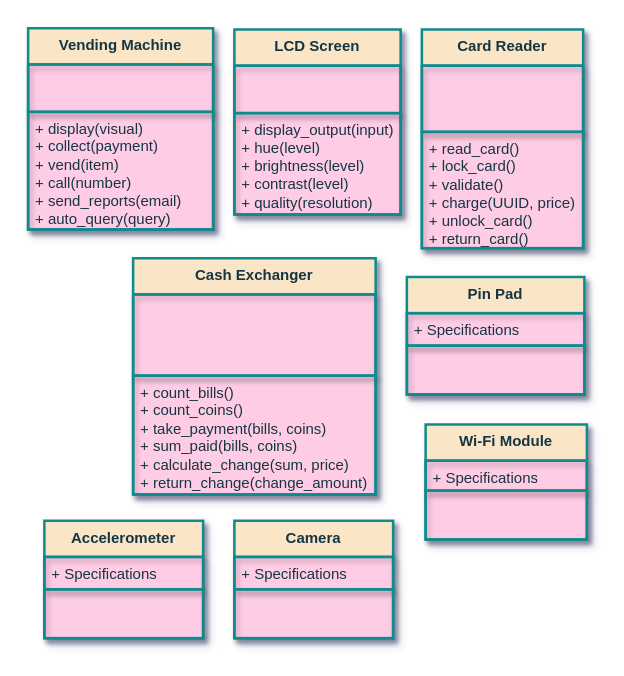
Some shapes in this 624 by 676 pixel diagram are drawn without their labels. Here are the shapes that lost their labels. From the top down, the centre of each, then its label:
At [121,89]: "+ Machine ID & Locations + Machine Specifications".
At [318,90]: "+ Visual Input / Output + Specifications".
At [503,100]: "+ Specifications + Card UUID + Item Price".
At [255,336]: "+ Specifications + Available Funds + Inserted Funds + Item Price".
At [496,371]: "+ check_pin(user_input) + send(status)".
At [507,516]: "+ connect(network) + disconnect(network)".
At [124,615]: "+ get_speed() + send_tamper()".
At [314,615]: "+ get_pic() + send_image()".
